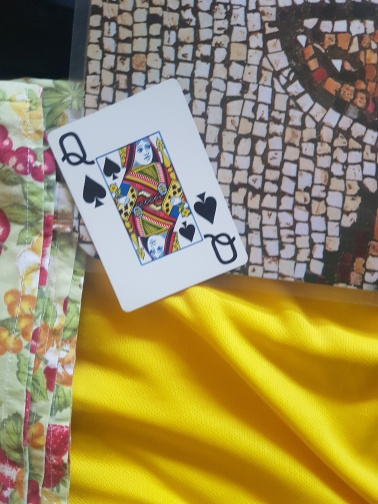queen: (47, 78, 249, 312)
